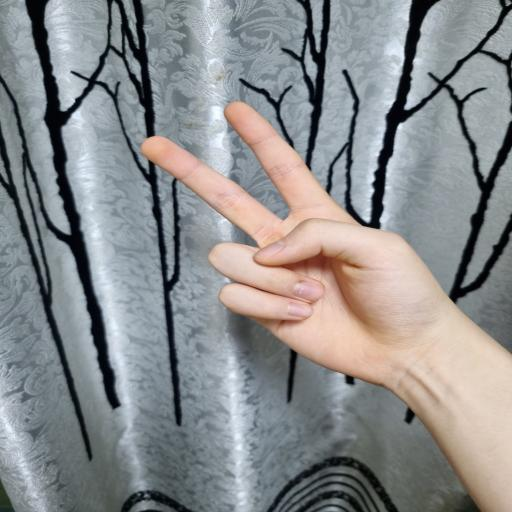Scissors: (141, 102, 512, 512)
